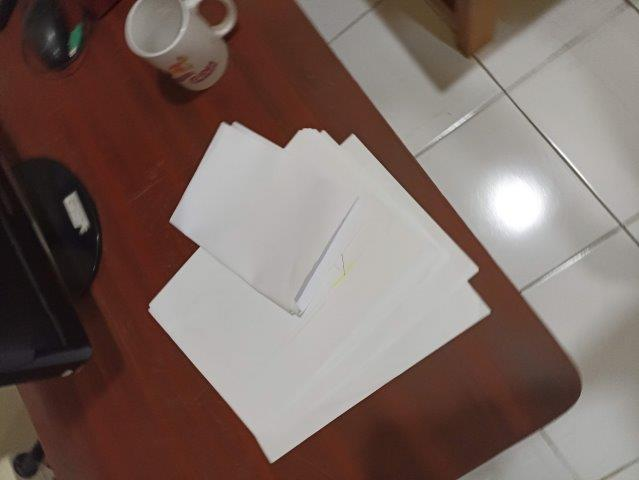kertas: (148, 121, 491, 462)
